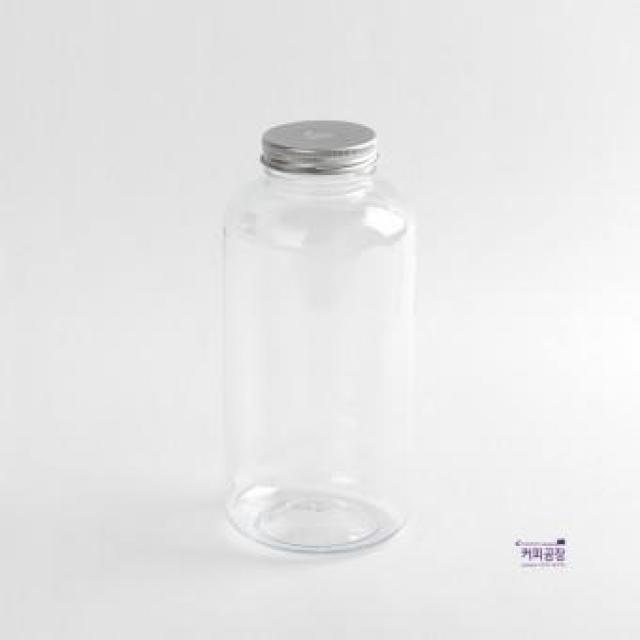bottle: (194, 92, 455, 589)
